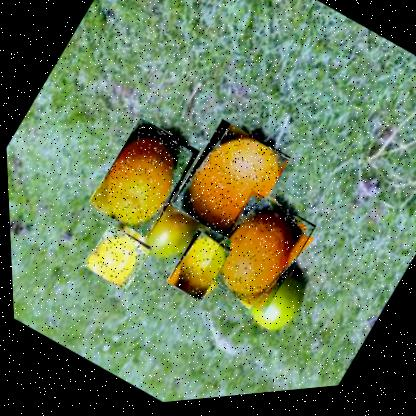orange: (165, 116, 292, 253), (194, 188, 317, 322), (82, 113, 202, 245), (161, 228, 232, 306), (79, 220, 151, 295)
